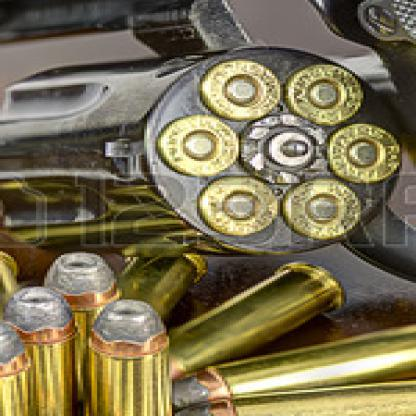gun: (0, 0, 413, 279)
